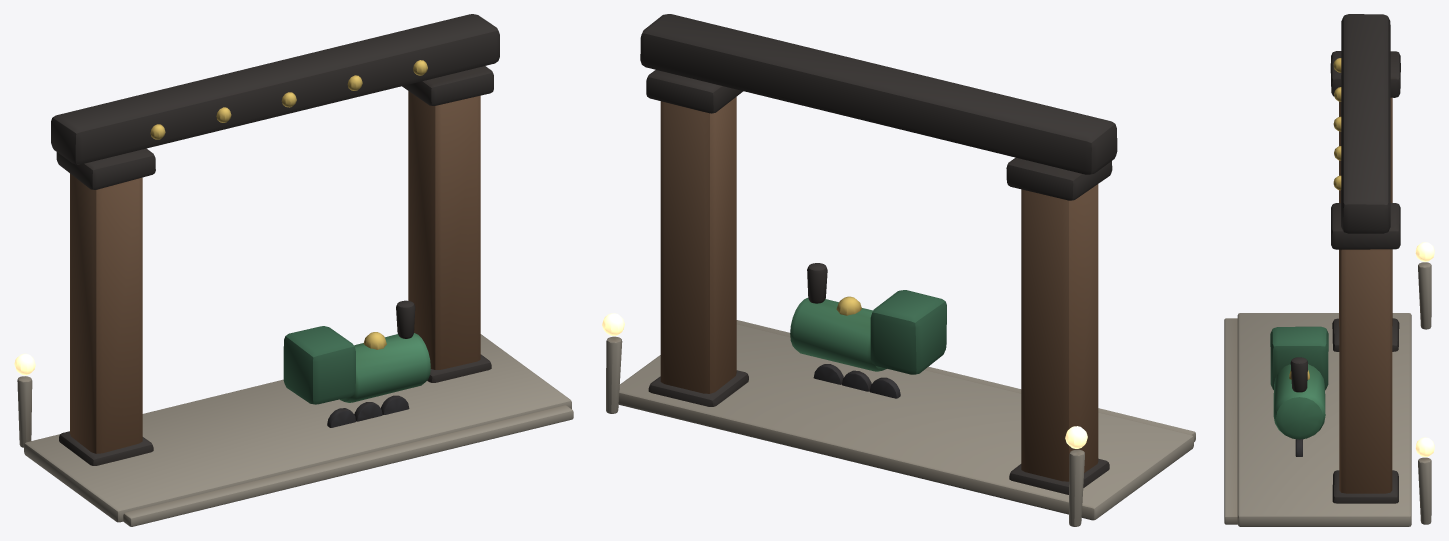
3 renders of one model, left to right at view 1: azimuth 30°, elevation 25°; view 2: azimuth 150°, elevation 25°; view 3: azimuth 270°, elevation 25°, orthographic. The views are drawn at different scales.
Parts seen in each view (by area): view 1: gate_8c12f469; view 2: gate_8c12f469; view 3: gate_8c12f469.
Boxes of the visible parts, bbox=[...] form: gate_8c12f469: bbox=[14, 14, 573, 526]; gate_8c12f469: bbox=[602, 14, 1195, 526]; gate_8c12f469: bbox=[1224, 14, 1434, 526].
Bounding box in the file's own units: 5.83 × 4.25 × 2.54.
